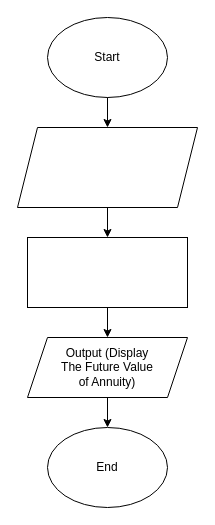
The diagram is 215 pixels wide and 525 high, and some of its shapes have lost their labels. Each missing label, with the centre of its shape:
"Process (A=PMT((1+(R/n))^(nt) -1)/(R/n)" belongs at (107,272).
"User input (PMT, R, n, t)" belongs at (107,167).
